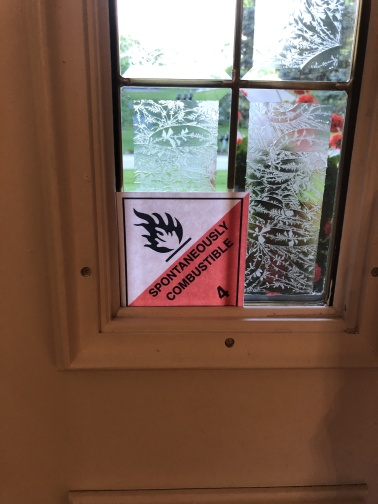SpontaneouslyCombustible: (114, 192, 250, 308)
